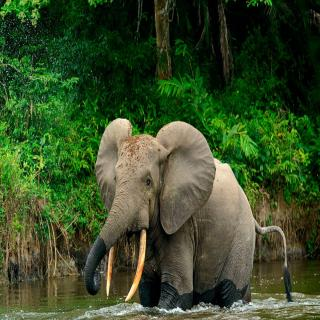Elephant: (77, 108, 295, 320)
